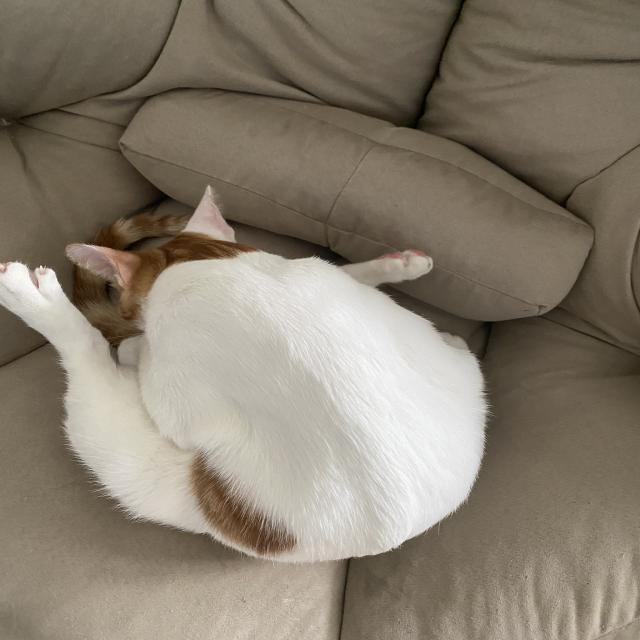cat1: (3, 197, 498, 570)
